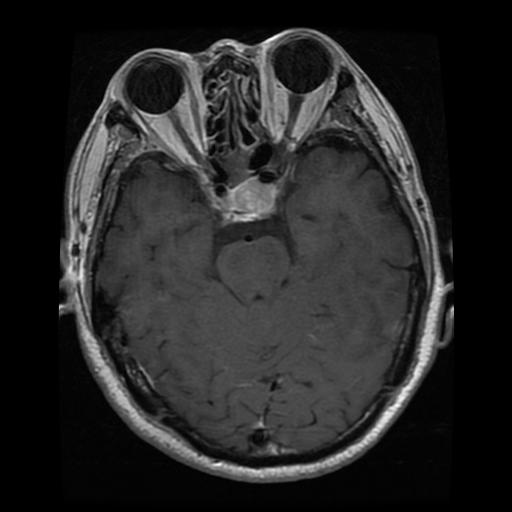Pituirity_tumour: (224, 177, 274, 209)
